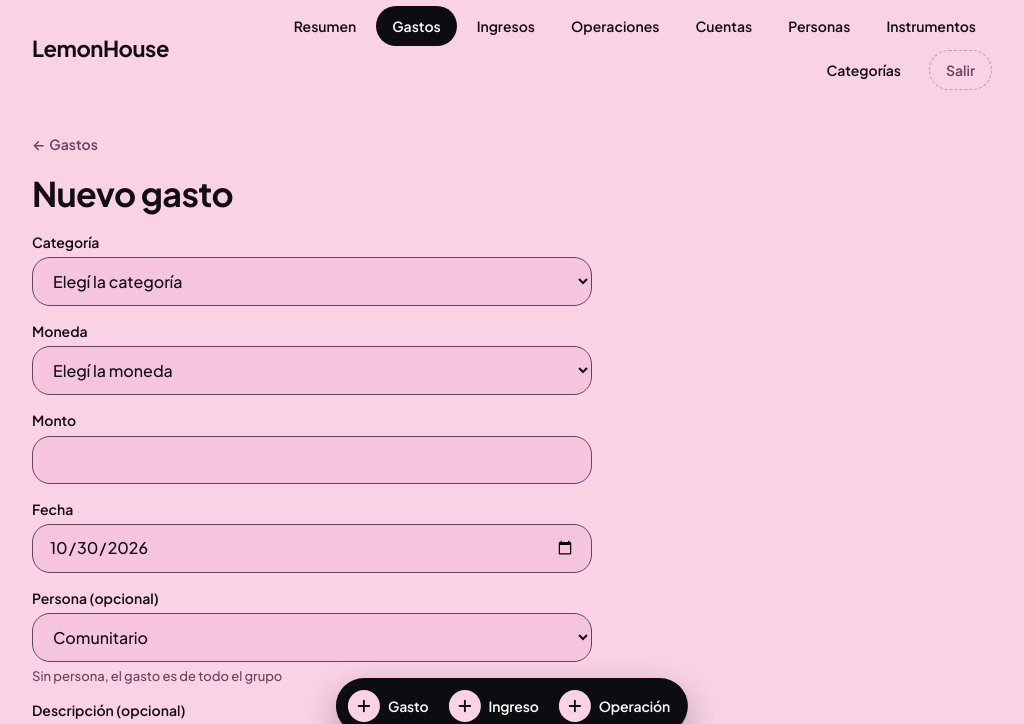
Test: gastos › con persona y descripción, la lista dice de quién es
Select "Servicios" in the dropdown labelled "Categoría" at (312, 282), box [32, 257, 592, 306]
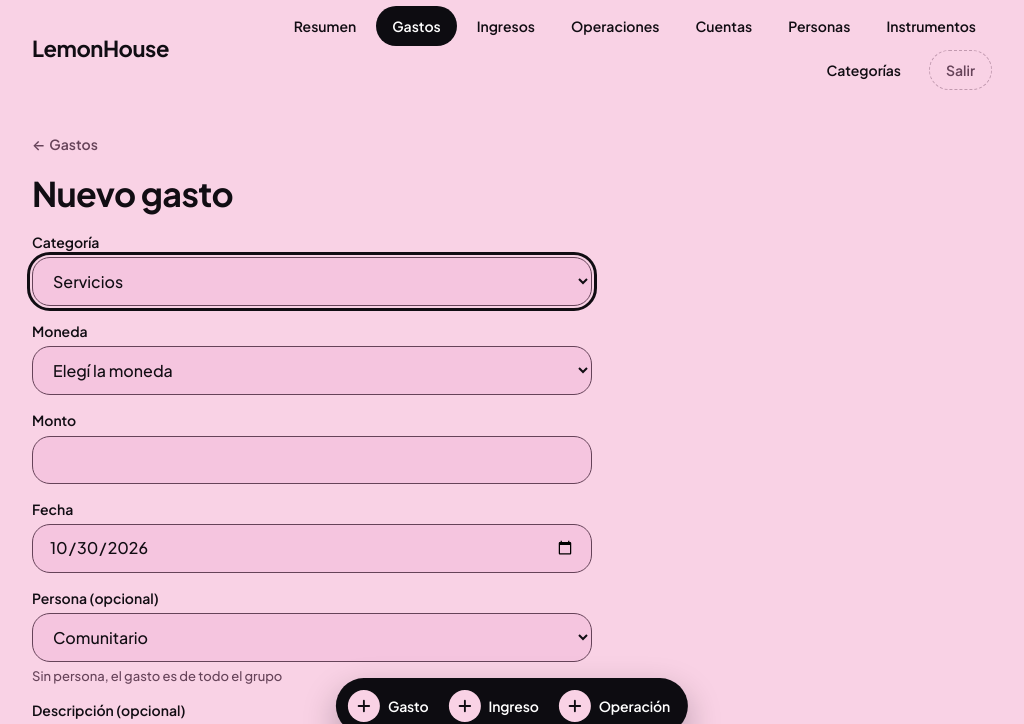
Select "Dólares" in the dropdown labelled "Moneda" at (312, 371), box [32, 346, 592, 396]
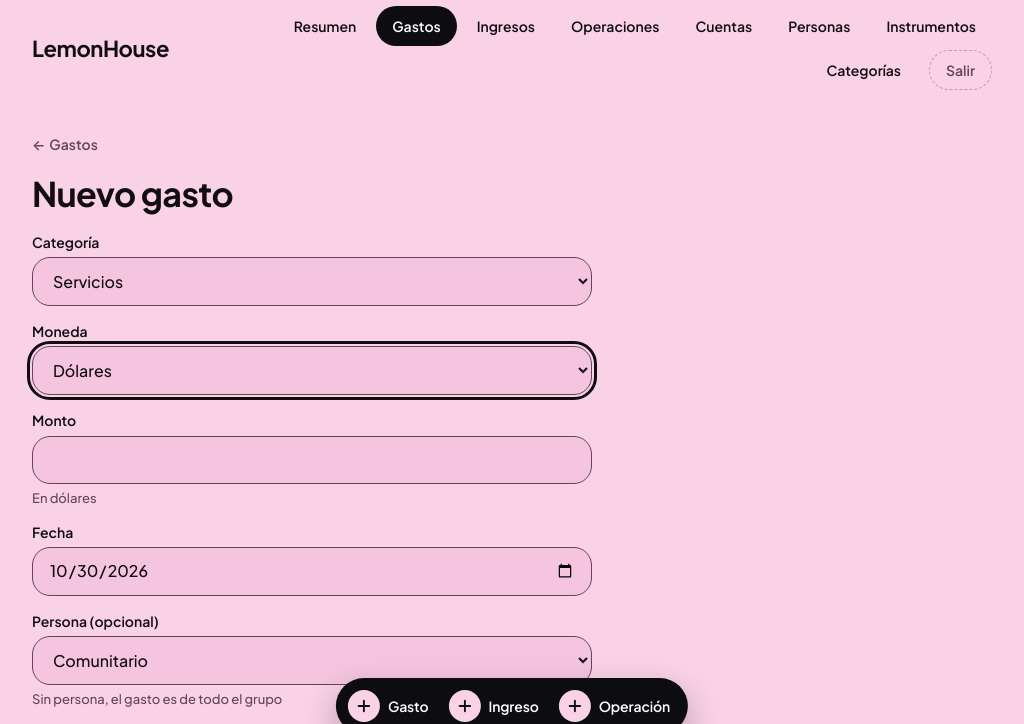
Type "120" into the field labelled "Monto" at (312, 460), box [32, 436, 592, 484]
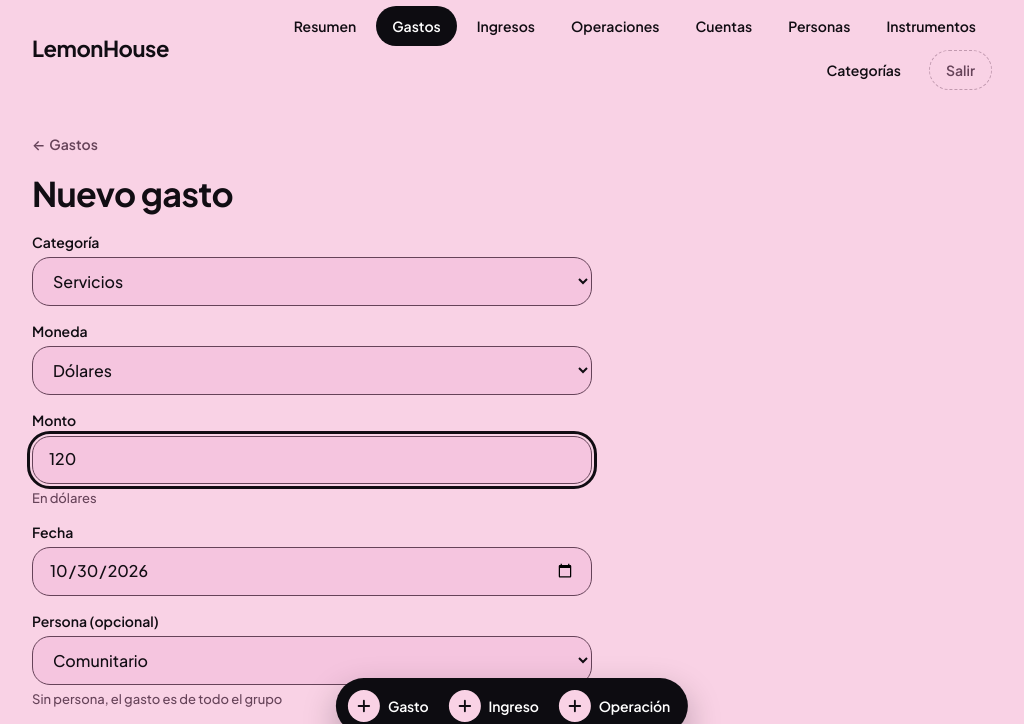
Select "Beto" in the dropdown labelled "Persona (opcional)" at (312, 660), box [32, 636, 592, 685]
(page scrolled)
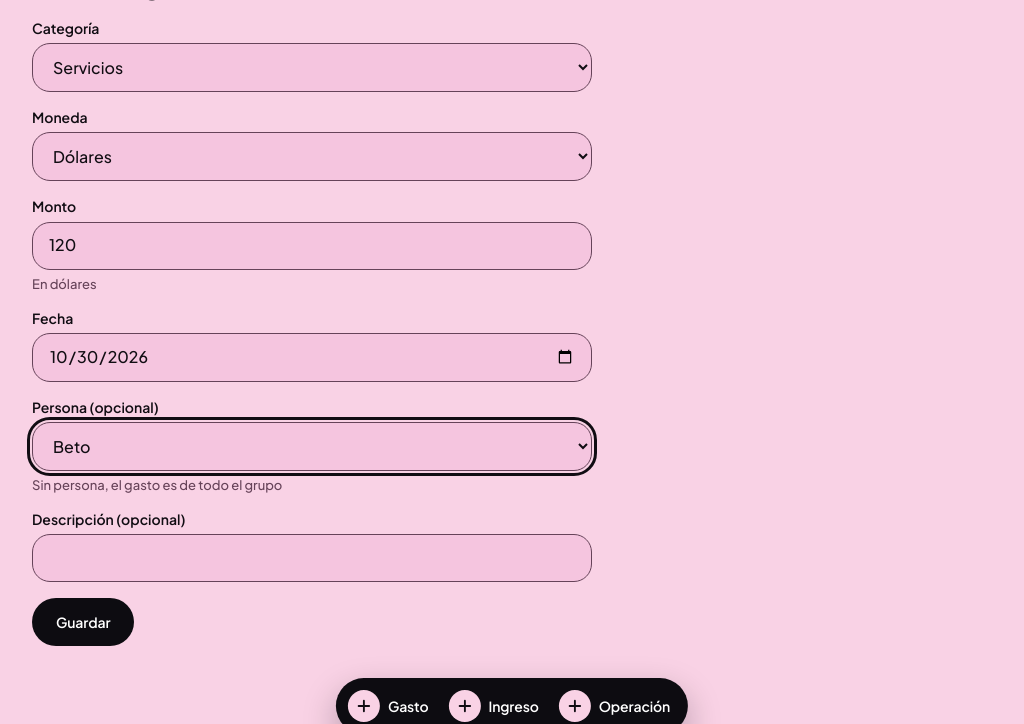
Type "  Suscripción " into the field labelled "Descripción (opcional)" at (312, 558), box [32, 534, 592, 582]
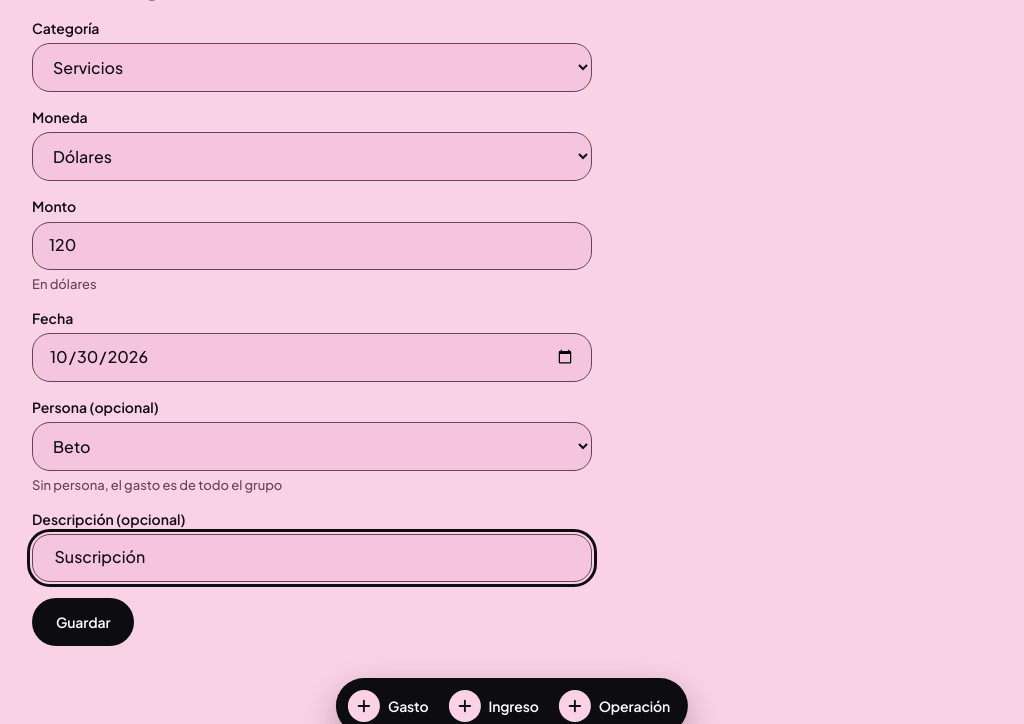
Click the button "Guardar" at (83, 622), box [32, 598, 134, 646]
(page scrolled)
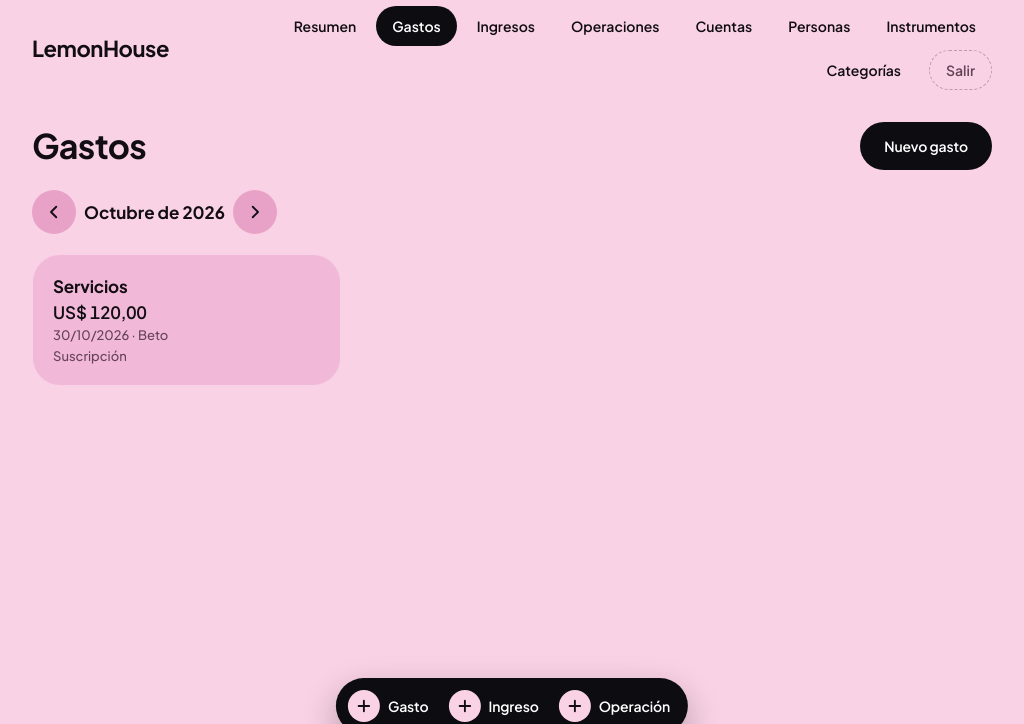
Expected: the link "Servicios US$ 120,00 30/10/2026 · Beto Suscripción" is shown, [32, 254, 341, 386]
